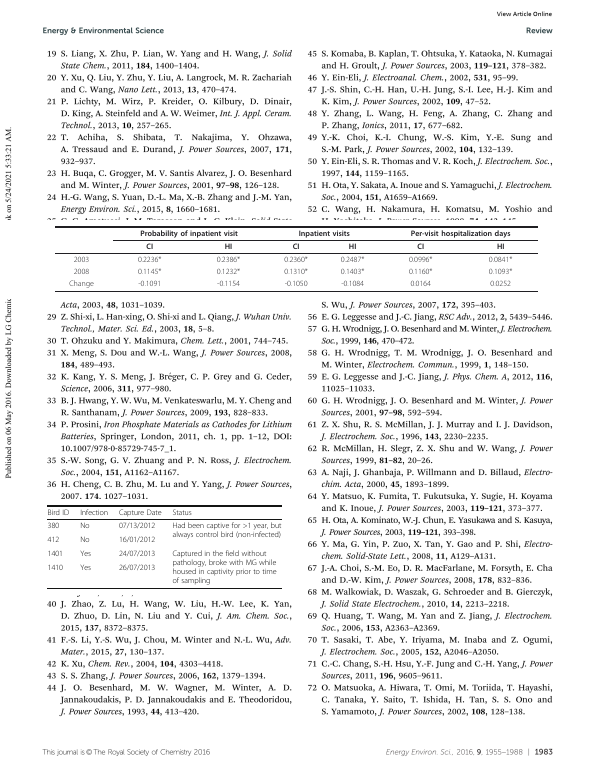borderless: (55, 225, 538, 291), (47, 504, 282, 588)
cell: (171, 549, 277, 586), (171, 521, 282, 540), (410, 229, 511, 238), (139, 229, 239, 238), (298, 229, 351, 238), (118, 508, 162, 517), (118, 521, 156, 531), (118, 535, 156, 545), (118, 549, 156, 559), (118, 563, 156, 573), (68, 279, 95, 289), (79, 508, 109, 517), (283, 255, 309, 265), (283, 267, 309, 277), (137, 255, 162, 265), (216, 255, 241, 265), (340, 255, 365, 265), (408, 255, 433, 265), (488, 255, 513, 265), (137, 267, 162, 277), (216, 267, 241, 277), (340, 267, 365, 277), (408, 267, 433, 277), (488, 267, 513, 277), (137, 279, 162, 289), (216, 279, 241, 289), (340, 279, 365, 289), (284, 279, 308, 289), (409, 279, 432, 289), (489, 279, 512, 289), (47, 508, 70, 517), (171, 508, 193, 517), (73, 255, 90, 265), (73, 267, 90, 277), (47, 549, 64, 559), (47, 563, 64, 573), (47, 521, 60, 531), (47, 535, 60, 545), (79, 549, 92, 559), (79, 563, 92, 573), (79, 521, 90, 531), (79, 535, 90, 545), (145, 242, 154, 252), (224, 242, 233, 252), (348, 242, 357, 252), (416, 242, 425, 252), (496, 242, 505, 252), (292, 242, 300, 252)
